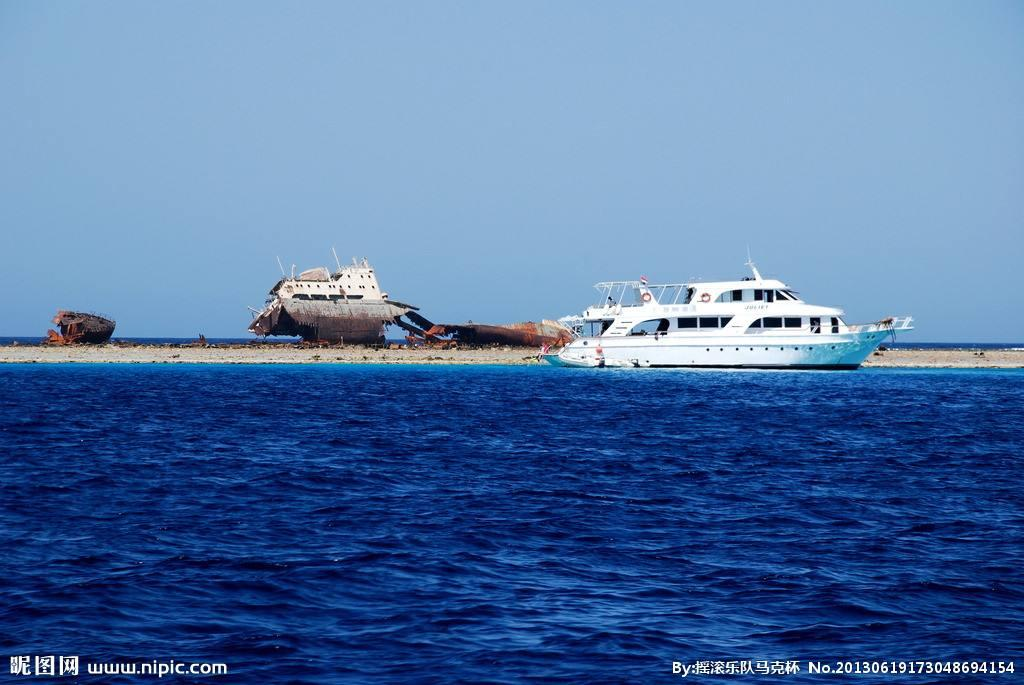yacht: (542, 258, 919, 379)
